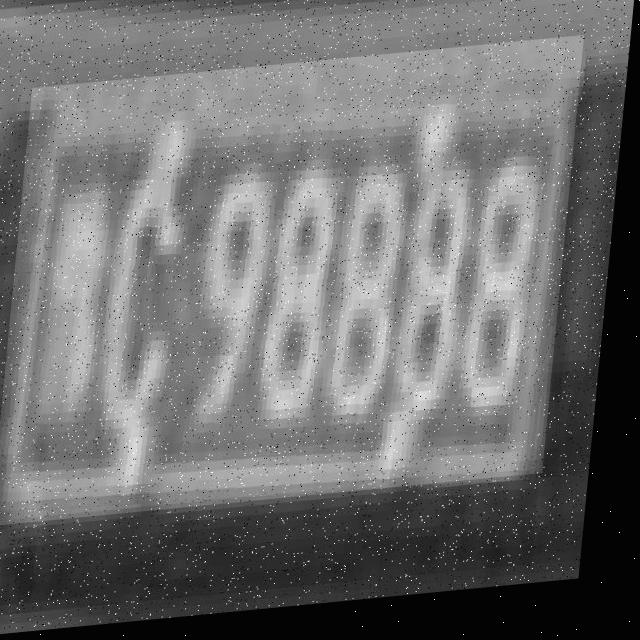LicensePlate: (1, 48, 586, 527)
